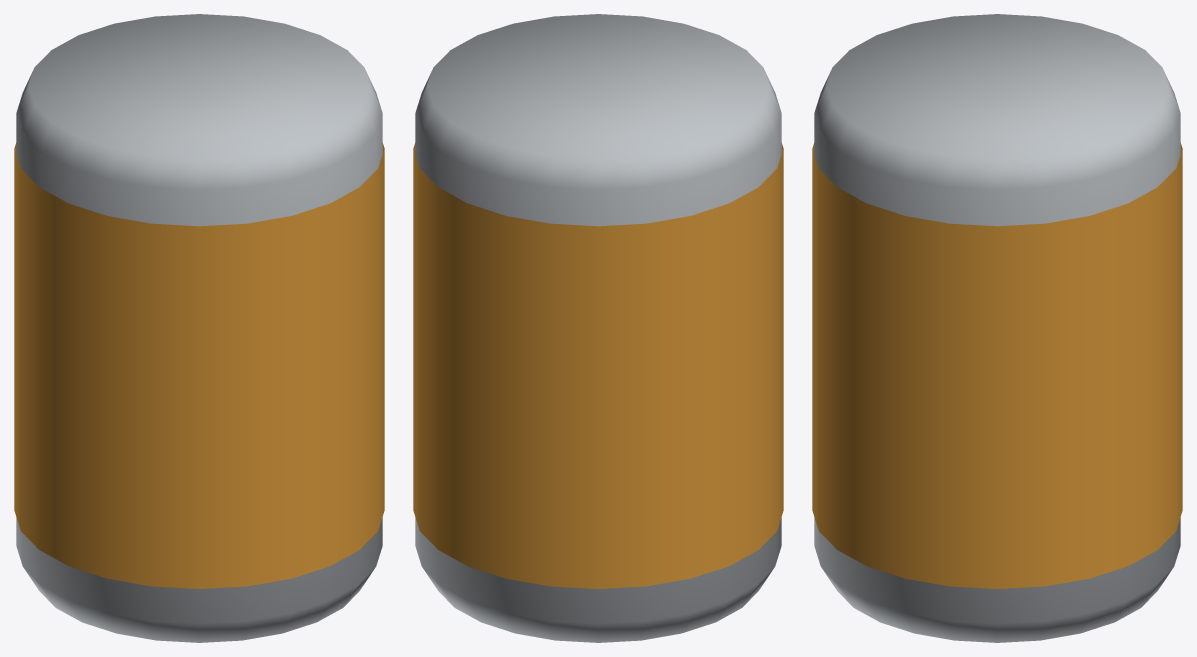
File: item_tin.fbx
3 views of the same model, side by side, from view 1: azimuth 30°, elevation 25°; view 2: azimuth 150°, elevation 25°; view 3: azimuth 270°, elevation 25° (orthographic).
Visible parts, largest first — view 1: item_tin; view 2: item_tin; view 3: item_tin.
Boxes of the visible parts, x1=… form: item_tin: x1=14, y1=14, x2=384, y2=642; item_tin: x1=413, y1=14, x2=783, y2=642; item_tin: x1=812, y1=14, x2=1182, y2=642.
Bounding box in the file's own units: 0.0758 × 0.11 × 0.0758.
